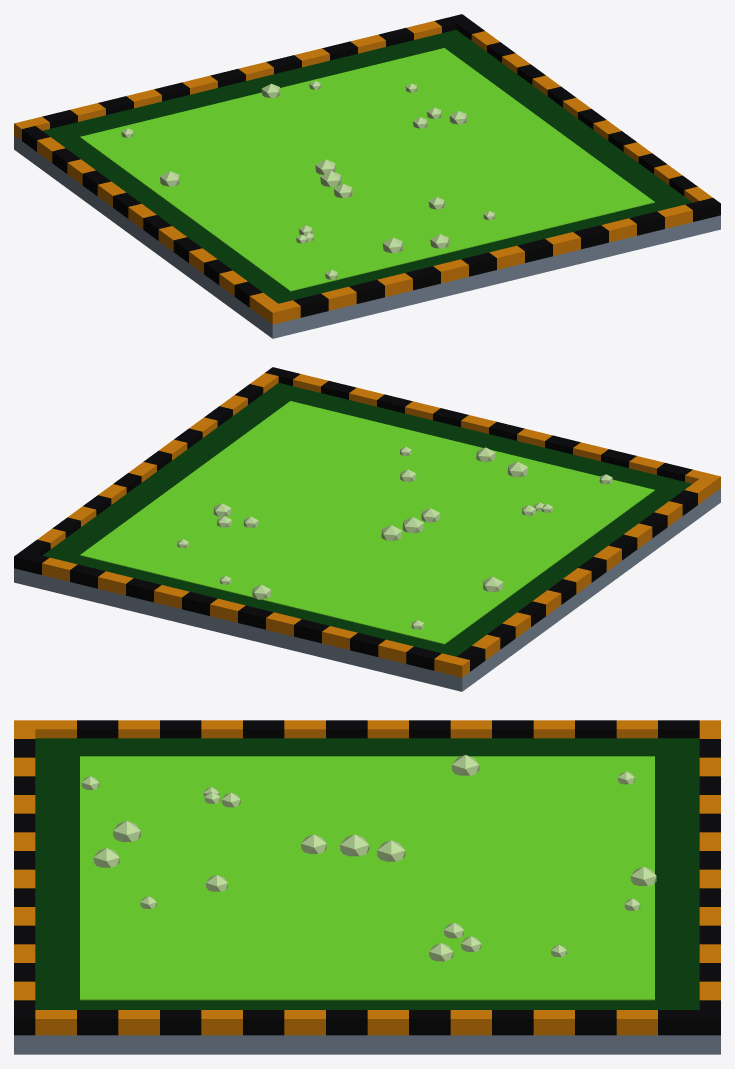
File: SM_Acid_Pool_4x4.glb
3 renders of one model, top to bottom at view 1: azimuth 30°, elevation 25°; view 2: azimuth 150°, elevation 25°; view 3: azimuth 270°, elevation 25°, orthographic. The views are drawn at different scales.
Visible parts, largest first — view 1: SM_Acid_Pool_4x4-col; view 2: SM_Acid_Pool_4x4-col; view 3: SM_Acid_Pool_4x4-col.
Part boxes in pixels (<box>): SM_Acid_Pool_4x4-col: <box>14,14,720,338</box>; SM_Acid_Pool_4x4-col: <box>14,367,720,691</box>; SM_Acid_Pool_4x4-col: <box>14,720,720,1054</box>.
Size of the model in its own units: 3.96 by 0.2708 by 3.96.
